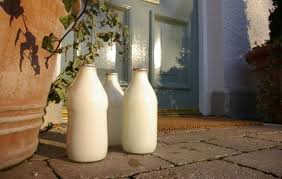milk: (71, 51, 109, 167), (124, 67, 163, 154)
